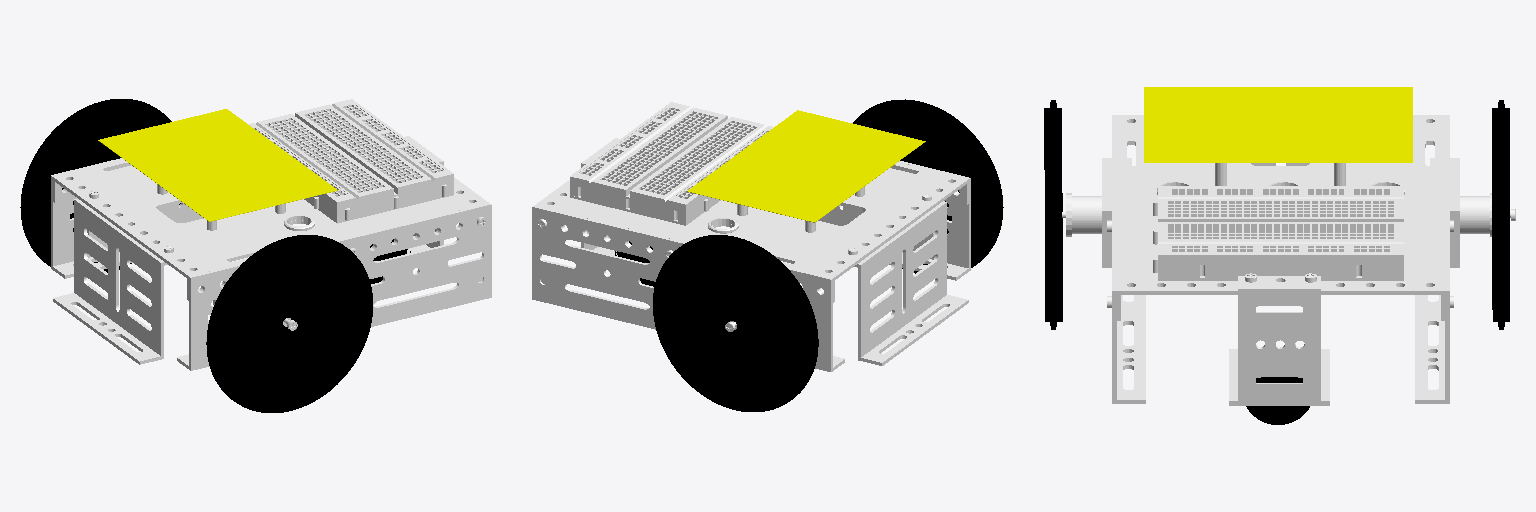
robot.urdf — mexatron:
<?xml version="1.0" encoding="utf-8"?>
<robot name="mexatron">
<link name="base_link">
  <inertial>
    <mass value="1.0"/>
    <inertia ixx="0.015" iyy="0.0375" izz="0.0375"
    ixy="0" ixz="0" iyz="0"/>
  </inertial>
  <visual>
    <origin
      xyz="0 0 0"
      rpy="0 0 1.5708" />
    <geometry>
      <mesh
        filename="package://mexatron/meshes/chassis_rsz.stl" />
    </geometry>
    <material
      name="">
      <color
        rgba="1 1 1 1" />
    </material>
  </visual>
  <collision>
    <origin
      xyz="0 0 0"
      rpy="0 0 0" />
    <geometry>
      <box size='0.15 0.15 0.02'/>
    </geometry>
  </collision>
</link>

<!-- BreadBoard -->
<link name="breadboard">
  <inertial>
    <origin
      xyz="0 0 0"
      rpy="0 0 0" />
    <mass
      value="0.001" />
    <inertia
      ixx="0.01"
      ixy="0.01"
      ixz="0.01"
      iyy="0.01"
      iyz="0.01"
      izz="0.01" />
  </inertial>
  <visual>
    <origin
      xyz="0 0 0"
      rpy="0 0 0" />
    <geometry>
      <mesh
        filename="package://mexatron/meshes/breadboard_rsz.stl" />
    </geometry>
    <material
      name="">
      <color
        rgba="236 236 236 1" />
    </material>
  </visual>
  <collision>
    <origin
      xyz="0 0 0"
      rpy="0 0 0" />
  </collision>
</link>
<joint name="breadboard_to_base" type="fixed">
  <parent link="base_link"/>
  <child link="breadboard"/>
  <origin xyz="0.034 0 0.015" rpy="0 0 1.5708"/>
</joint>

<!-- PCB-->
<link name="pcb_link">
  <inertial>
    <origin
      xyz="0 0 0"
      rpy="0 0 0" />
    <mass
      value="0.001" />
    <inertia
      ixx="0.01"
      ixy="0.01"
      ixz="0.01"
      iyy="0.01"
      iyz="0.01"
      izz="0.01" />
  </inertial>
  <visual>
    <origin
      xyz="0 0 0"
      rpy="0 0 0" />
    <geometry>
      <mesh
        filename="package://mexatron/meshes/pcb_rsz.stl" />
    </geometry>
    <material
      name="">
      <color
        rgba="255 215 0 1" />
    </material>
  </visual>
  <collision>
    <origin
      xyz="0 0 0"
      rpy="0 0 0" />
    <geometry>
      <box size='0.06 0.09 0.01'/>
    </geometry>
  </collision>
</link>

<joint name="pcb_to_base" type="fixed">
  <origin xyz="-0.018 0 0.026" rpy="0 0 1.5708"/>
  <parent link="base_link"/>
  <child link="pcb_link"/>
  <axis xyz="0 0 0"/>
</joint>

<!--Left Wheel-->
  <link
    name="wheellft">
  <inertial>
    <mass value="0.1"/>
    <inertia ixx="5.1458e-5" iyy="5.1458e-5" izz="6.125e-5"
    ixy="0" ixz="0" iyz="0"/>
  </inertial>
    <visual>
      <origin
        xyz="0 0 0"
        rpy="0 1.5708 0" />
      <geometry>
        <mesh
          filename="package://mexatron/meshes/wheel_rsz.stl" />
      </geometry>
      <material
        name="">
        <color
          rgba="0 0 0 1" />
      </material>
    </visual>
    <collision>
      <origin
        xyz="0 0 0"
        rpy="0 0 0" />
      <geometry>
        <cylinder length="0.01" radius="0.0385"/>
      </geometry>
    </collision>
  </link>

  <joint
    name="wheelleft"
    type="continuous">
    <parent link="base_link" />
    <child link="wheellft" />
    <origin xyz="-0.0345 0.075 -0.012" rpy="-1.57 0 0"/>
    <axis xyz="0 0 1"/>
  </joint>

<!--Right Wheel-->
  <link
    name="wheelrgt">
  <inertial>
    <mass value="0.1"/>
    <inertia ixx="5.1458e-5" iyy="5.1458e-5" izz="6.125e-5"
    ixy="0" ixz="0" iyz="0"/>
  </inertial>
    <visual>
      <origin
        xyz="0 0 0"
        rpy="0 1.5708 0" />
      <geometry>
        <mesh
          filename="package://mexatron/meshes/wheel_rsz.stl" />
      </geometry>
      <material
        name="">
        <color
          rgba="0 0 0 1" />
      </material>
    </visual>
    <collision>
      <origin
        xyz="0 0 0"
        rpy="0 0 0" />
      <geometry>
        <cylinder length="0.01" radius="0.0385"/>
      </geometry>
    </collision>
  </link>
  <joint
    name="wheelright"
    type="continuous">
    <parent link="base_link" />
    <child link="wheelrgt" />
    <origin xyz="-0.0345 -0.075 -0.012" rpy="-1.57 0 0"/>
    <axis xyz="0 0 1"/>
  </joint>


<!-- Ball Caster--> 
  <link
    name="caster_link">
  <inertial>
    <mass value="0.1"/>
    <inertia ixx="5.1458e-5" iyy="5.1458e-5" izz="6.125e-5"
    ixy="0" ixz="0" iyz="0"/>
  </inertial>
    <visual>
      <origin
        xyz="0 0 0"
        rpy="0 0 0" />
      <geometry>
        <mesh
          filename="package://mexatron/meshes/ballcaster_rsz.stl" />
      </geometry>
      <material
        name="">
        <color
          rgba="0 0 0 1" />
      </material>
    </visual>
    <collision>
      <origin
        xyz="0 0 0"
        rpy="1.57075 0 0" />
      <geometry>
        <sphere radius="0.0125"/>
      </geometry>
    </collision>
  </link>

  <joint
    name="caster_joint"
    type="continuous">
    <origin
        xyz="0.052 0 -0.034"
        rpy="0 0 0" />
    <parent
      link="base_link" />
    <child
      link="caster_link" />
    <axis
      xyz="0 0 1" />
  </joint>

<gazebo>
  <plugin name="differential_drive_controller" filename="libgazebo_ros_diff_drive.so">
    <commandTopic>cmd_vel</commandTopic>
    <odometryTopic>odom</odometryTopic>
    <odometryFrame>odom</odometryFrame>
    <odometrySource>world</odometrySource>
    <publishOdomTF>true</publishOdomTF>
    <robotBaseFrame>base_link</robotBaseFrame>
    <publishWheelTF>false</publishWheelTF>
    <publishTf>true</publishTf>
    <publishWheelJointState>true</publishWheelJointState>
    <legacyMode>false</legacyMode>
    <updateRate>30</updateRate>
    <leftJoint>wheelleft</leftJoint>
    <rightJoint>wheelright</rightJoint>
    <wheelSeparation>0.72</wheelSeparation>
    <wheelDiameter>0.1</wheelDiameter>
    <wheelAcceleration>1</wheelAcceleration>
    <wheelTorque>100</wheelTorque>
    <rosDebugLevel>na</rosDebugLevel>
  </plugin>
</gazebo>

<gazebo reference="base_link">
  <material>Gazebo/Grey</material>
</gazebo>
<gazebo reference="breadboard">
  <material>Gazebo/White</material>
</gazebo>
<gazebo reference="pcb_link">
  <material>Gazebo/Gold</material>
</gazebo>
<gazebo reference="caster_link">
  <material>Gazebo/Black</material>
</gazebo>
<gazebo reference="wheelrgt">
  <material>Gazebo/Black</material>
</gazebo>
<gazebo reference="wheellft">
  <material>Gazebo/Black</material>
</gazebo>


</robot>

--- What the picture shows (computed from the rendered views, not written in the file) ---
3 views of the same robot in one strip: view 1: azimuth 30°, elevation 25°; view 2: azimuth 150°, elevation 25°; view 3: azimuth 270°, elevation 25° (orthographic).
Model mexatron with 6 links and 5 joints (3 continuous, 2 fixed), rooted at base_link, posed all joints at 0.
Visible links, largest first — view 1: base_link, wheelrgt, pcb_link, breadboard, wheellft; view 2: base_link, wheellft, pcb_link, breadboard, wheelrgt; view 3: base_link, breadboard, pcb_link, wheellft, wheelrgt, caster_link.
Link boxes in pixels (left/top/right/bottom): base_link: left=51, top=136, right=491, bottom=370; wheelrgt: left=206, top=235, right=372, bottom=412; pcb_link: left=98, top=109, right=337, bottom=221; breadboard: left=248, top=99, right=453, bottom=223; wheellft: left=20, top=99, right=180, bottom=272; base_link: left=532, top=138, right=970, bottom=371; wheellft: left=653, top=235, right=818, bottom=411; pcb_link: left=687, top=110, right=925, bottom=222; breadboard: left=570, top=102, right=773, bottom=225; wheelrgt: left=853, top=99, right=1003, bottom=273; base_link: left=1062, top=115, right=1515, bottom=405; breadboard: left=1153, top=186, right=1403, bottom=280; pcb_link: left=1144, top=87, right=1412, bottom=162; wheellft: left=1492, top=100, right=1509, bottom=329; wheelrgt: left=1044, top=100, right=1062, bottom=329; caster_link: left=1246, top=377, right=1309, bottom=424.
Bounding box of the posed robot: 0.1535 × 0.1578 × 0.077 m (x, y, z).
6 mesh visuals loaded from 5 distinct referenced files (5 binary STL).